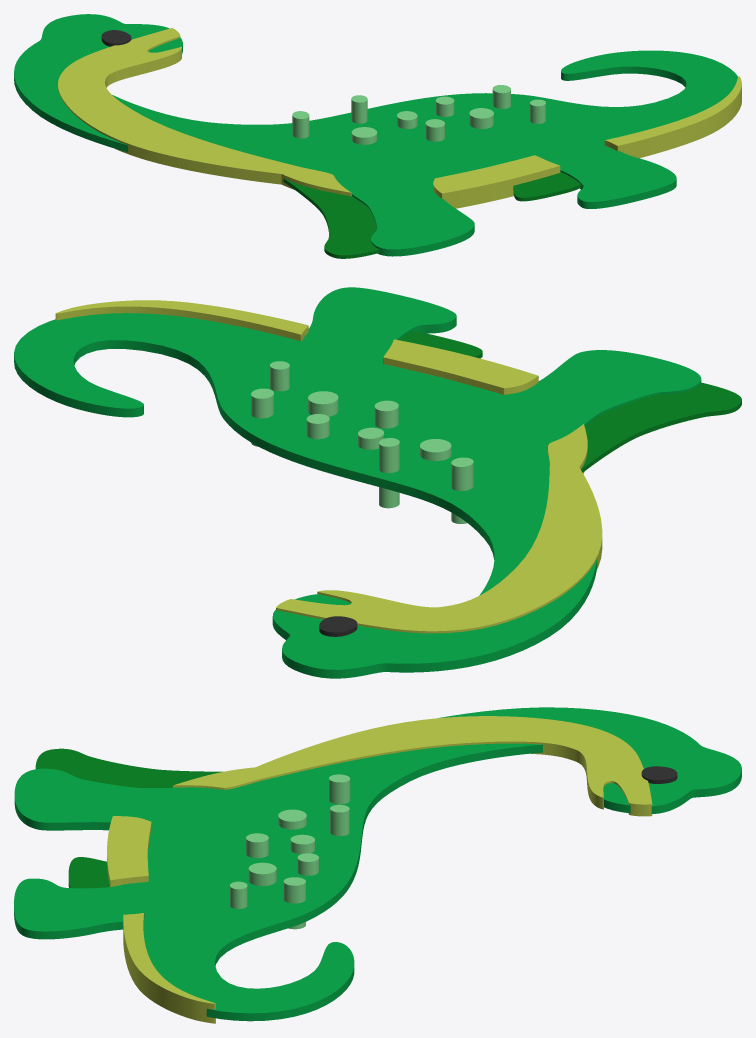
File: emoji_u1f995.glb
3 renders of one model, top to bottom at view 1: azimuth 30°, elevation 25°; view 2: azimuth 150°, elevation 25°; view 3: azimuth 270°, elevation 25°, orthographic. The views are drawn at different scales.
Visible parts, largest first — view 1: emoji_u1f995; view 2: emoji_u1f995; view 3: emoji_u1f995.
Boxes of the visible parts, x1,y1,x2,y2 form: emoji_u1f995: (14, 14, 741, 258); emoji_u1f995: (14, 287, 741, 678); emoji_u1f995: (14, 707, 741, 1023).
Size of the model in its own units: 0.0331 by 0.0028 by 0.0333.
